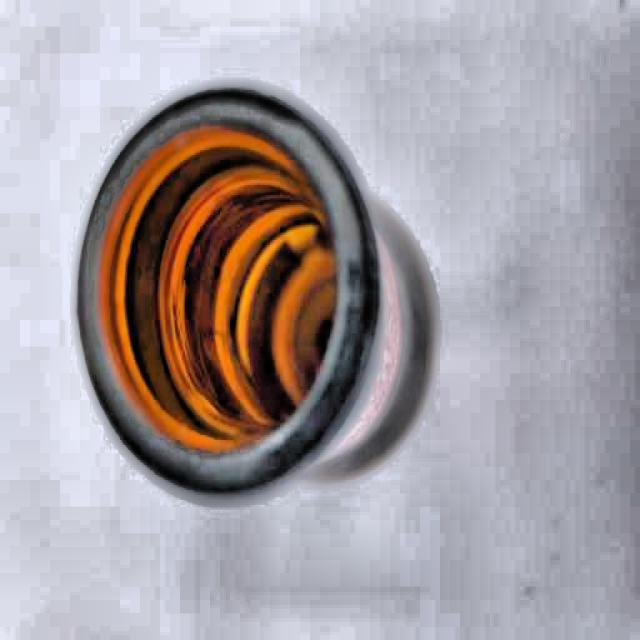glass: (69, 80, 406, 500)
